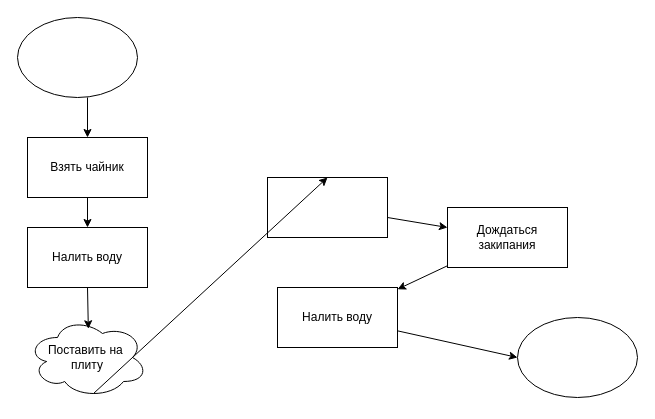
This 655x419 diagram has some shape labels left out. Here are the shapes that lost their labels. From the top down, the centre of each, then its label:
point (77, 57): Начало
point (327, 207): Включить плиту
point (577, 357): Конец
